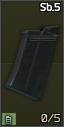SOK-12 12%576 sb.5 5-round magazine: (0, 0, 64, 127)
